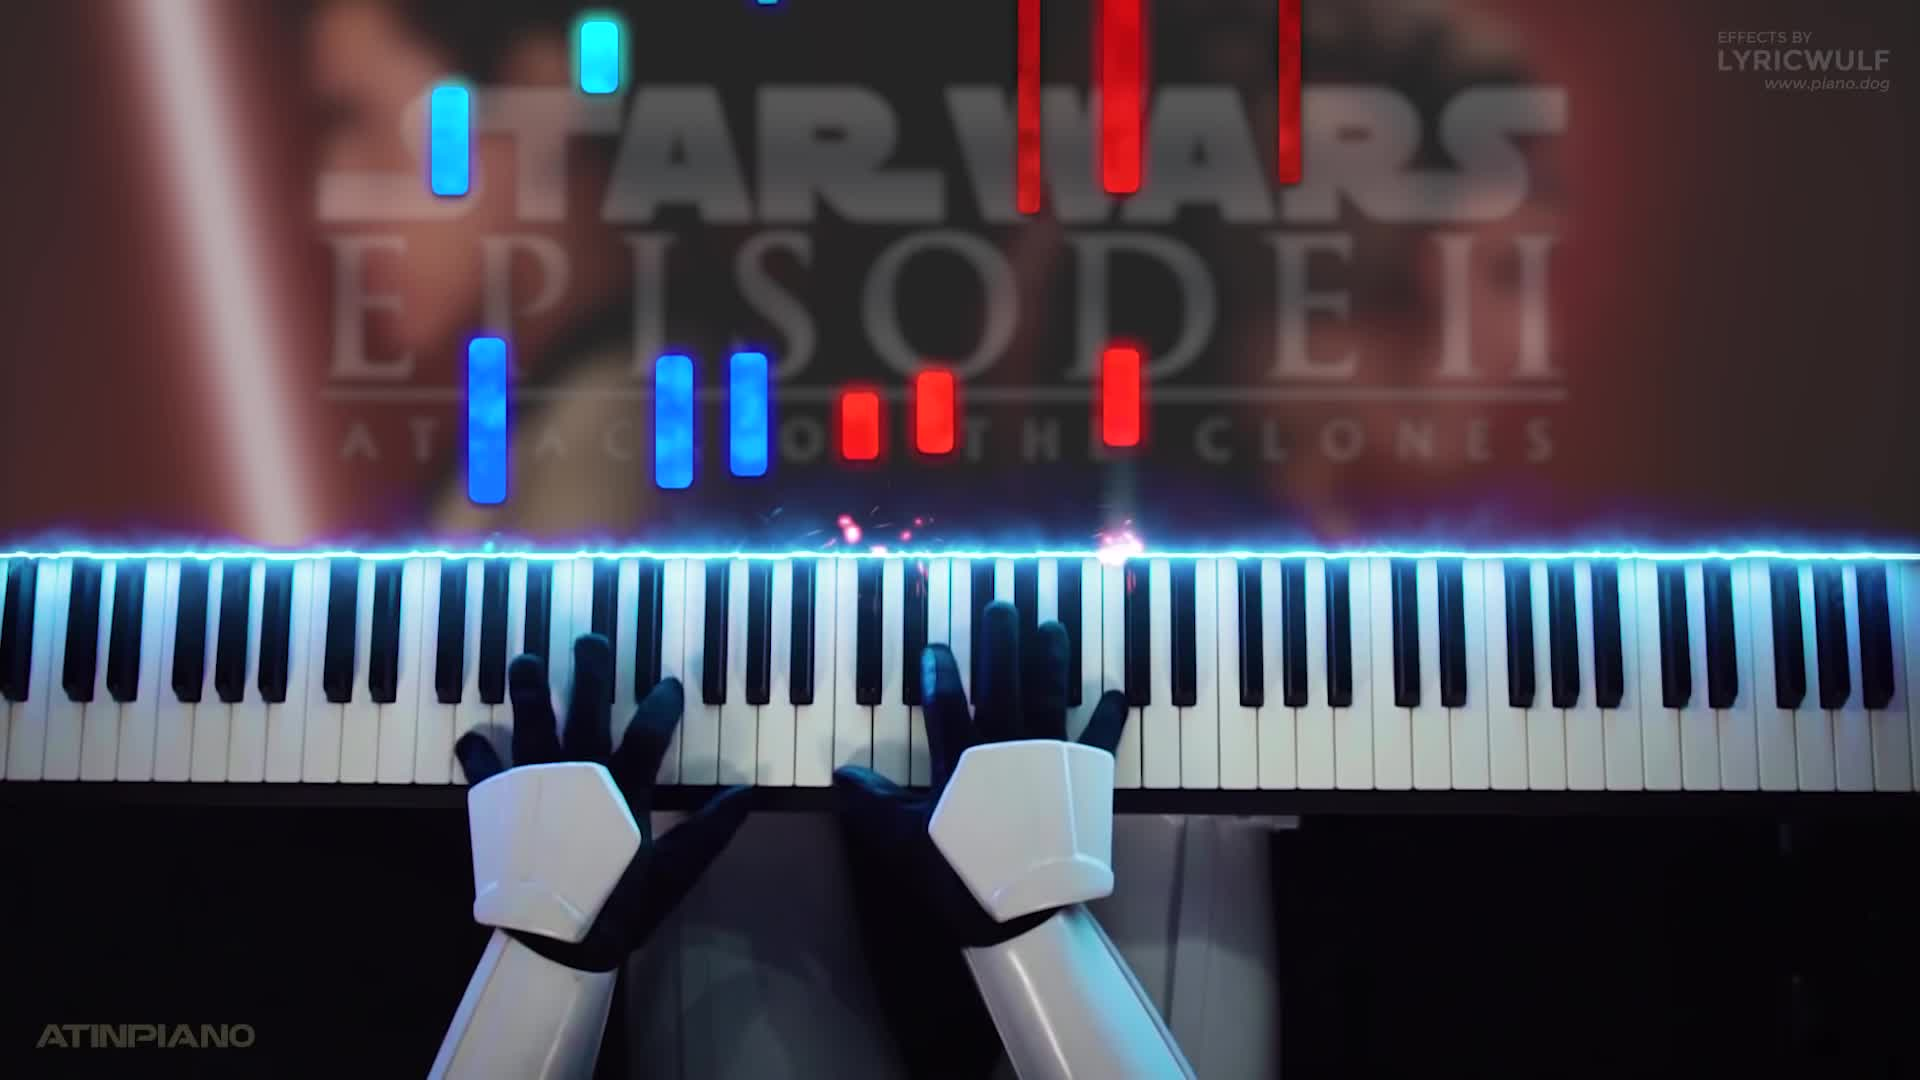left: (452, 633, 752, 936)
right: (829, 601, 1131, 922)
